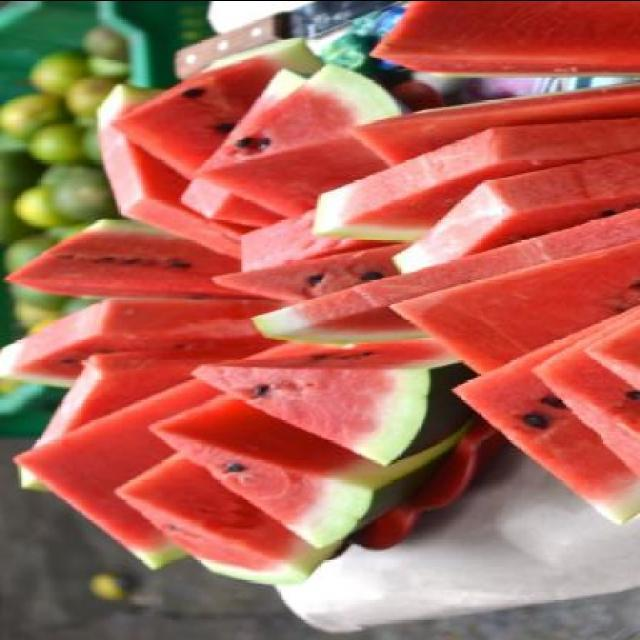Watermelon: (0, 2, 638, 588), (200, 352, 442, 460)
